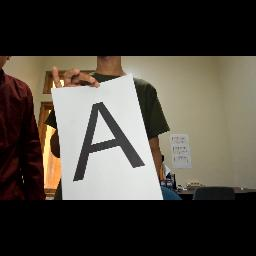a: (70, 100, 146, 186)
